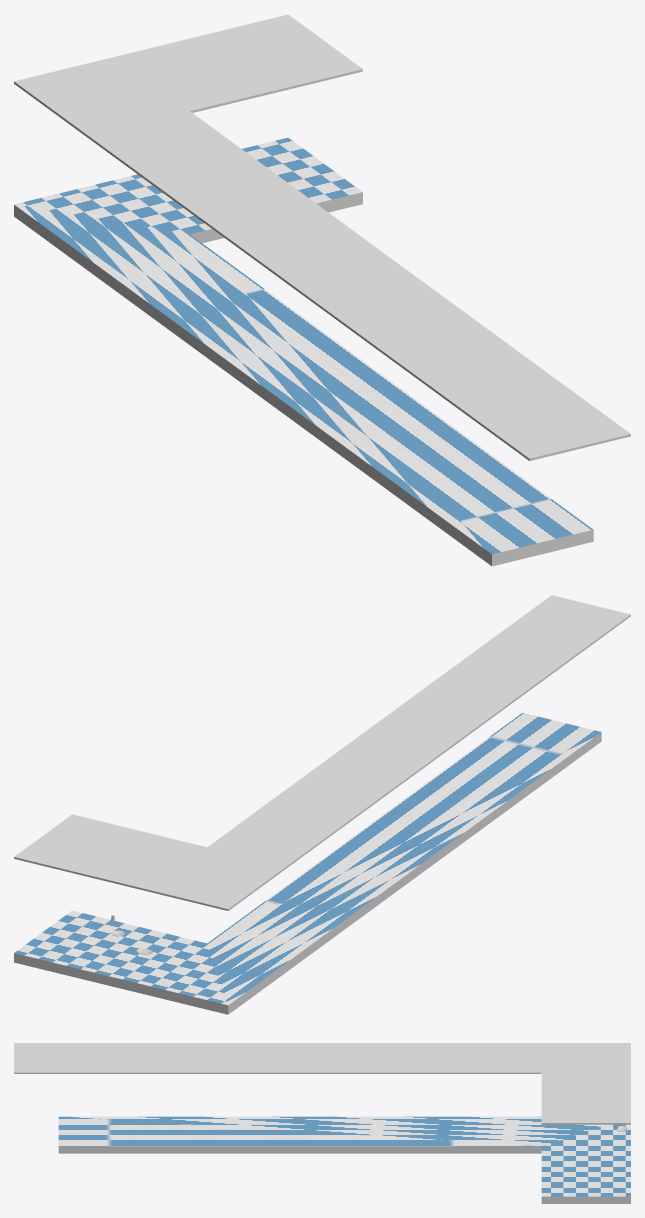
Rendered from fix_kit.fbx.
3 renders of one model, top to bottom at view 1: azimuth 30°, elevation 25°; view 2: azimuth 150°, elevation 25°; view 3: azimuth 270°, elevation 25°, orthographic. The views are drawn at different scales.
Visible parts, largest first — view 1: 천장, 바닥; view 2: 바닥, 천장; view 3: 바닥, 천장.
Part boxes in pixels (left/top/right/bottom): 천장: left=14, top=14, right=630, bottom=460; 바닥: left=14, top=137, right=593, bottom=566; 바닥: left=14, top=712, right=601, bottom=1014; 천장: left=14, top=595, right=630, bottom=910; 바닥: left=58, top=1116, right=630, bottom=1203; 천장: left=14, top=1043, right=630, bottom=1124.
Size of the model in its own units: 595 by 280 by 1936.
